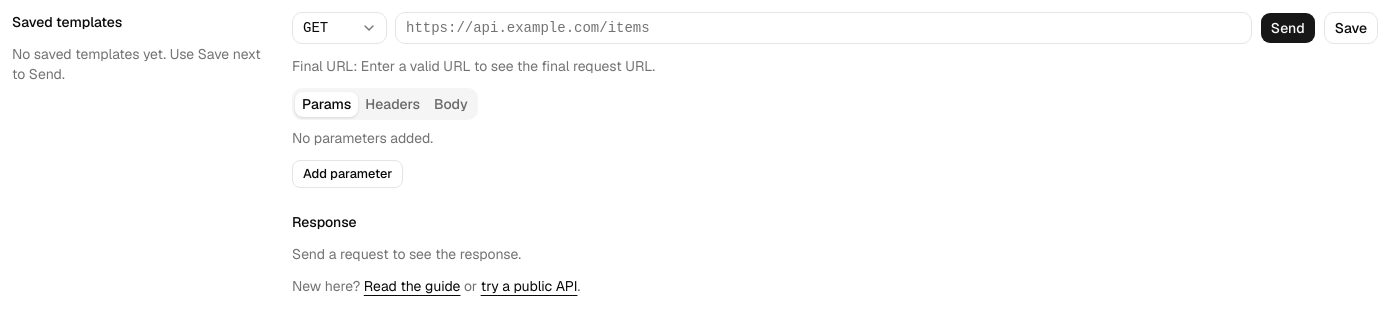
Test: Playground request bar (FR-01, FR-02) › previews the final URL as the user types
Expected: the text "Enter a valid URL to see the final request URL." is shown, left=361, top=57, right=655, bottom=75
Type "https://api.example.com/items?page=2" into the field named "URL" at (823, 28), box left=395, top=12, right=1252, bottom=44
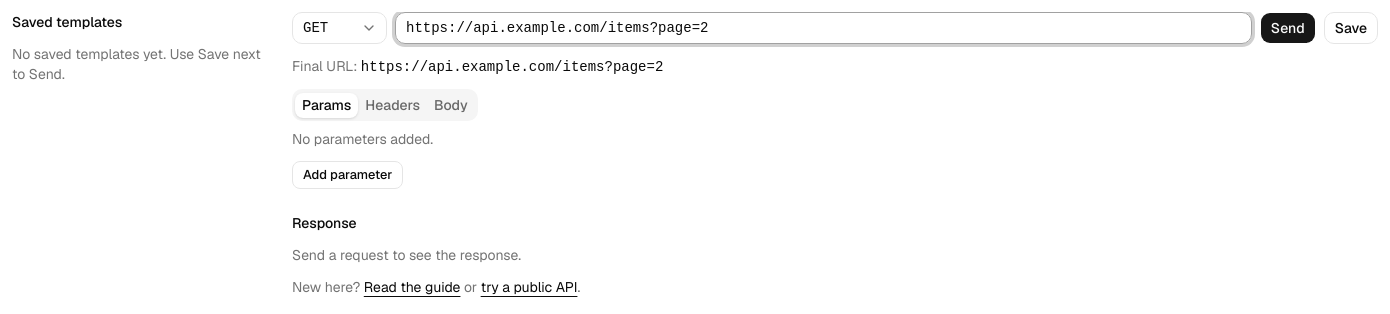
Now the text "https://api.example.com/items?page=2" is shown, box left=361, top=59, right=663, bottom=75
